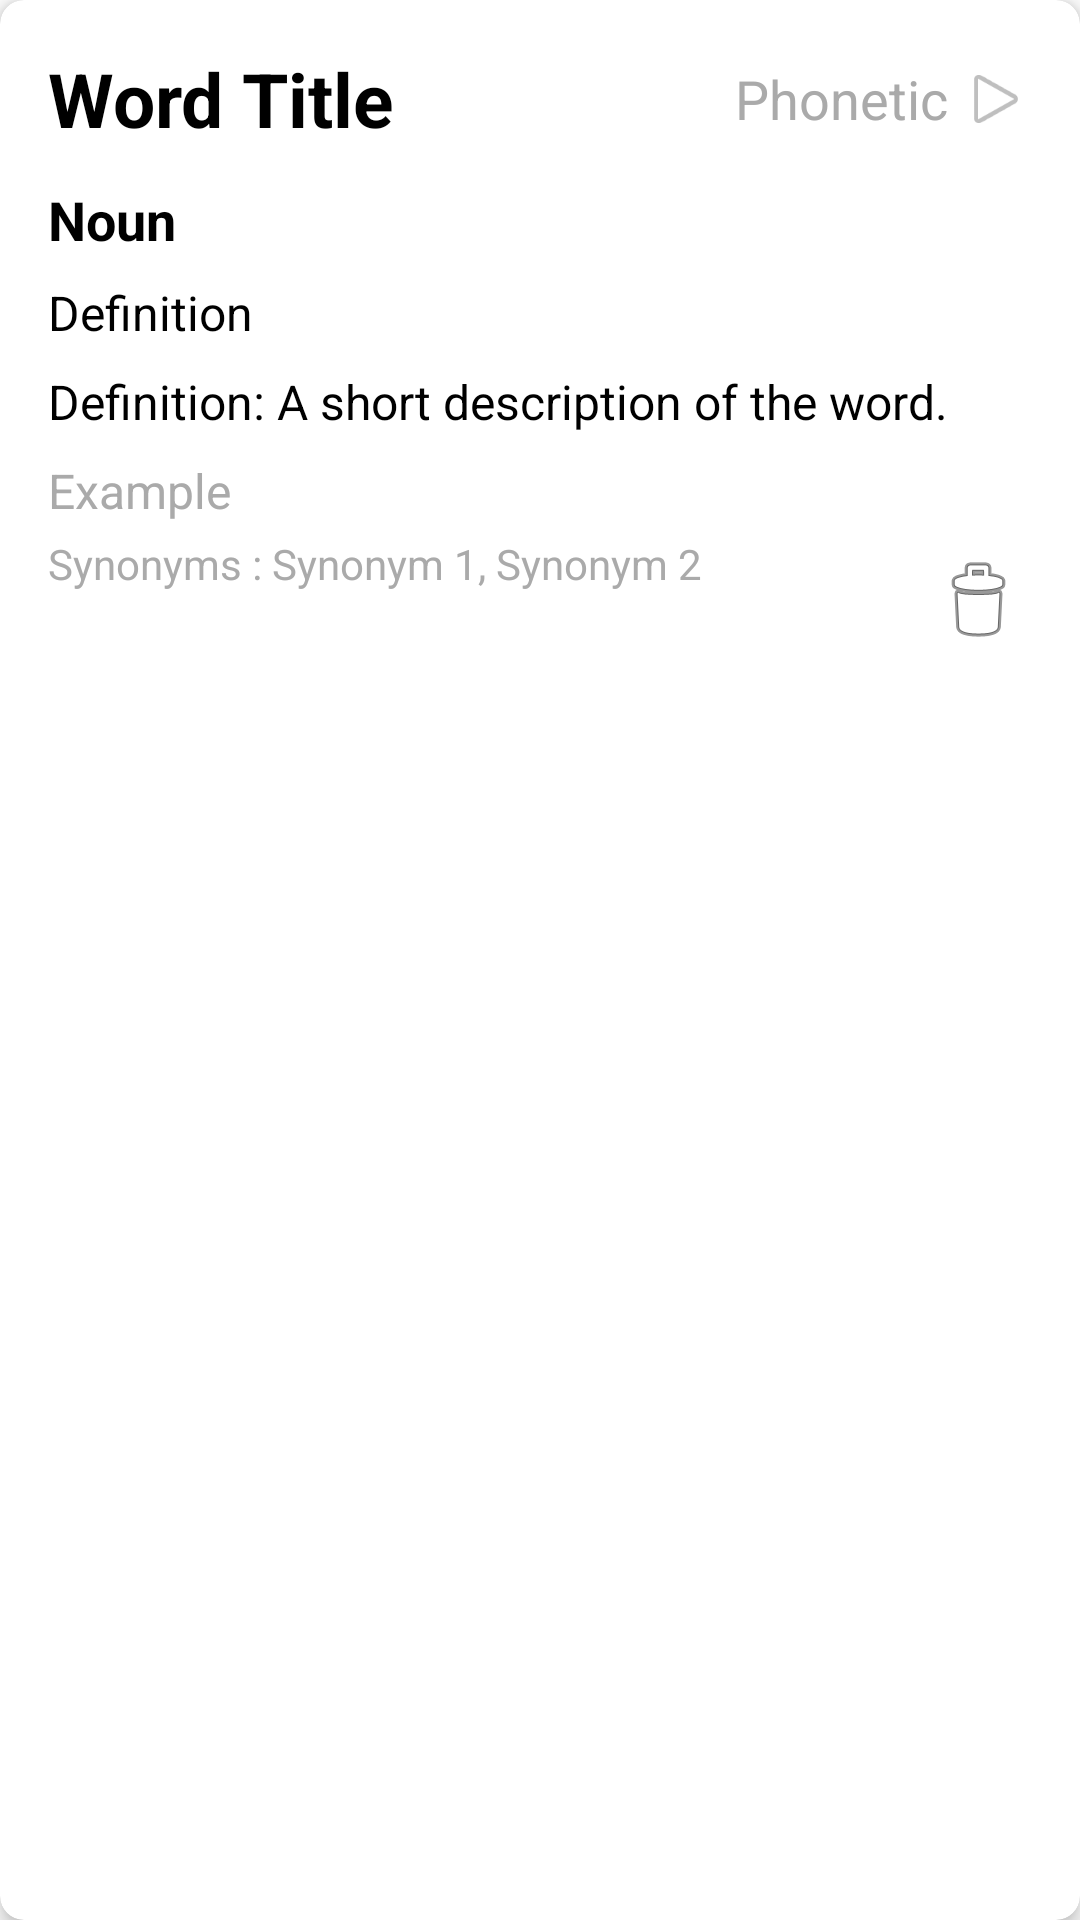

Point at icon controls on the screen. Image size 1080px x 1920px, points as (x,y).
delete: (978,599)
Play Pronunciation: (996,99)
